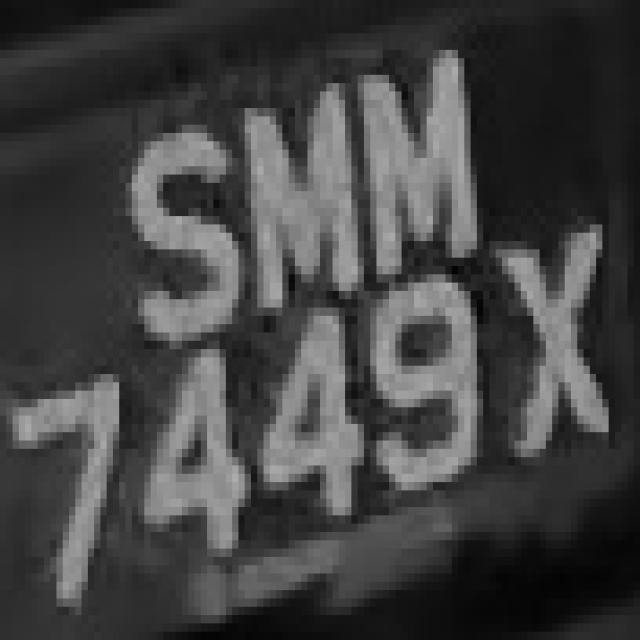4: (232, 307, 389, 574), (119, 341, 251, 582)
7: (12, 357, 126, 615)
9: (370, 241, 490, 507)
M: (232, 75, 364, 324), (332, 42, 477, 266)
S: (119, 108, 232, 341)
X: (508, 200, 615, 490)
